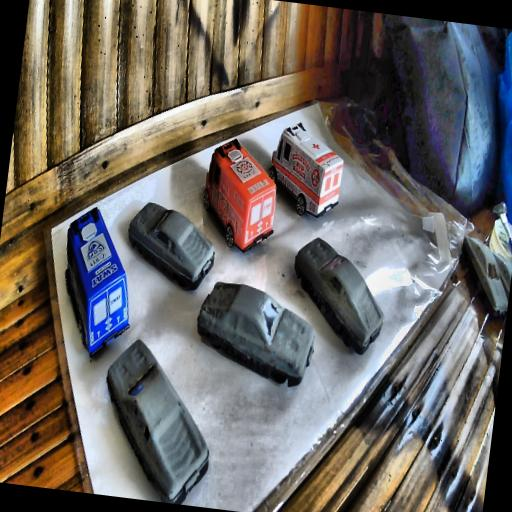ambulance: (263, 118, 344, 222)
fire_truck: (196, 134, 282, 255)
normal_car: (92, 338, 222, 507), (192, 280, 316, 390), (285, 236, 392, 356), (122, 198, 222, 292), (454, 235, 512, 316)
police car: (52, 204, 144, 364)
